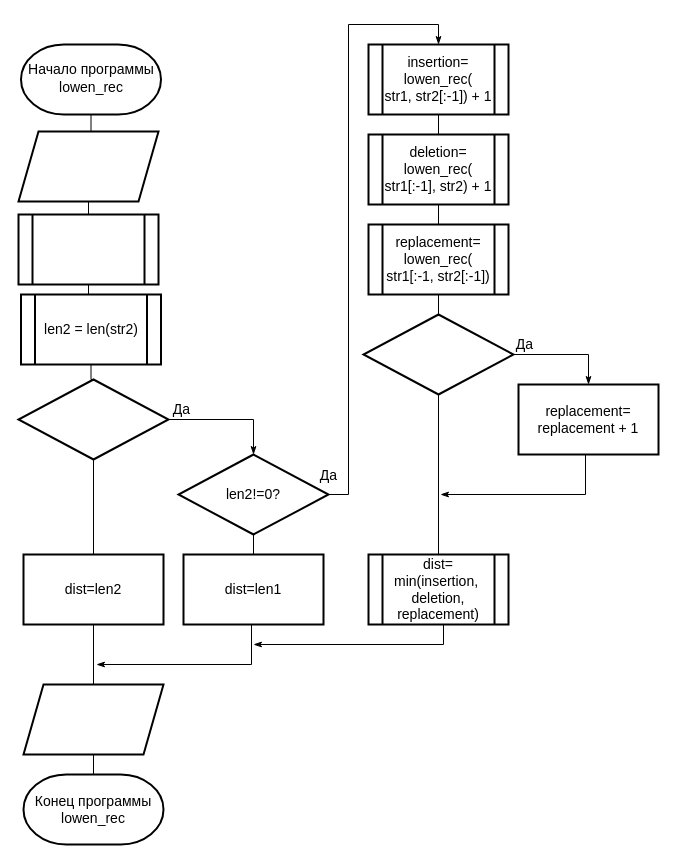
The diagram is 676 pixels wide and 863 high, and some of its shapes have lost their labels. The centre of each missing label's shape, as x and y in pixels:
dist: the point at 93,719
len1 = len(str1): the point at 88,249
len1!=0?: the point at 93,419
str1, str2: the point at 88,166
str1[i-1] != str2[j-1]?: the point at 438,354
